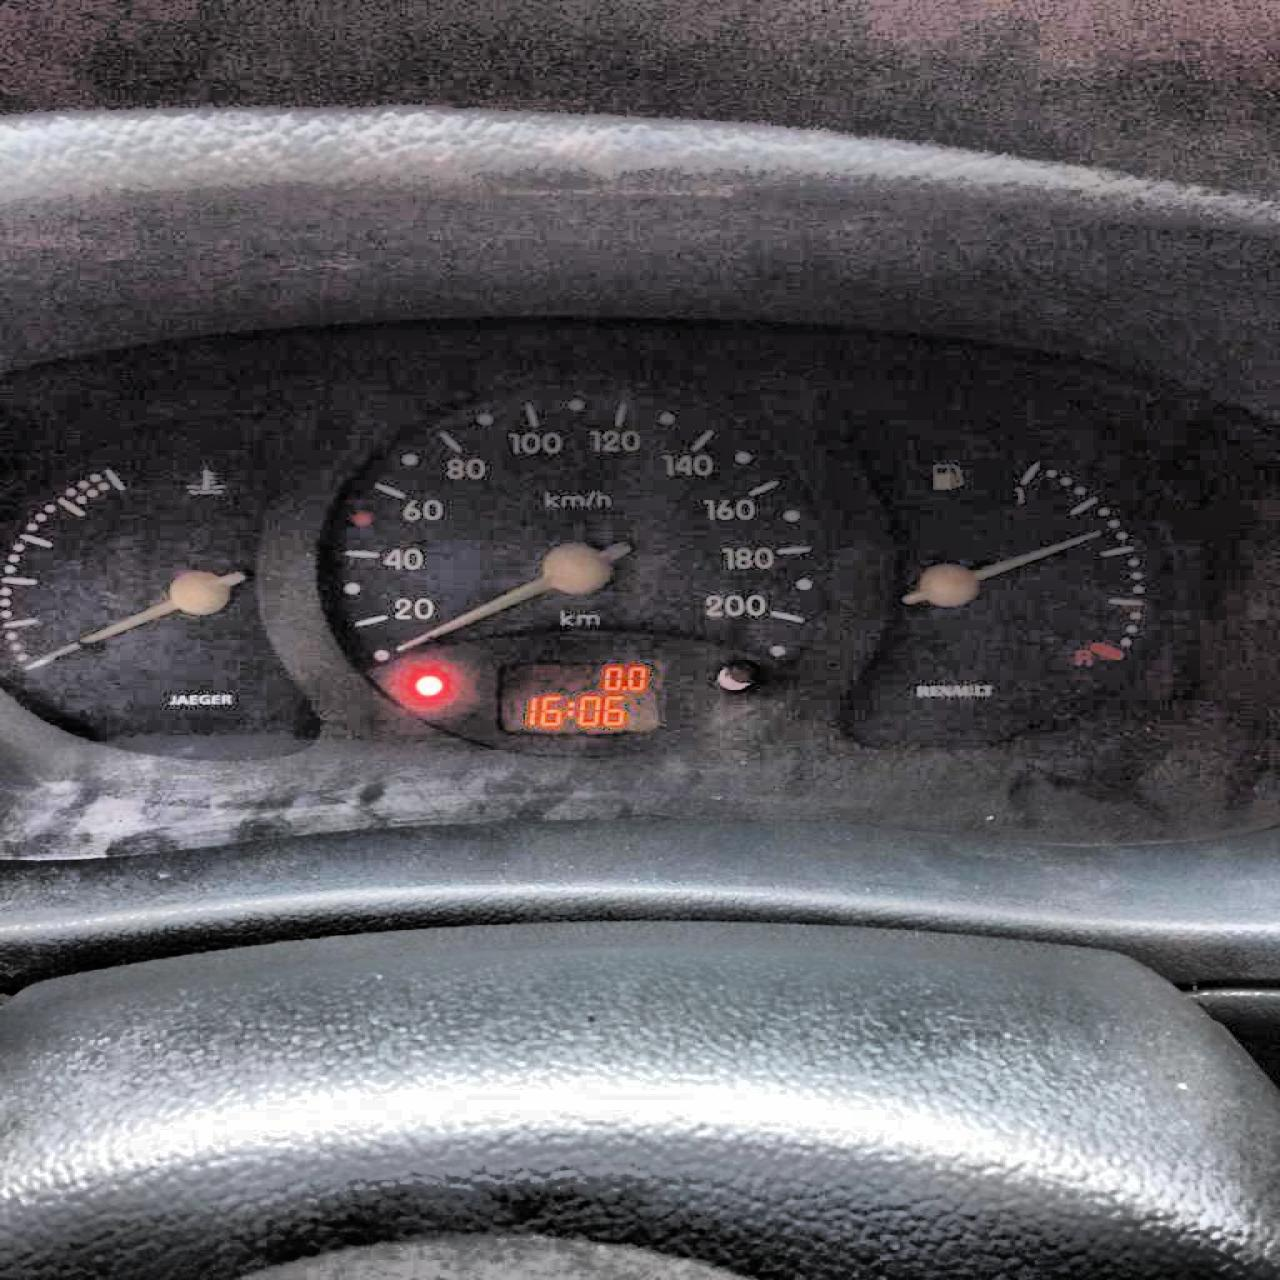-: (620, 682, 627, 692)
0: (577, 694, 598, 726), (604, 665, 620, 690), (627, 665, 644, 690)
1: (529, 694, 537, 726)
6: (604, 694, 625, 726), (540, 694, 560, 727)
X: (565, 699, 573, 717)
odometer: (493, 659, 665, 733)
